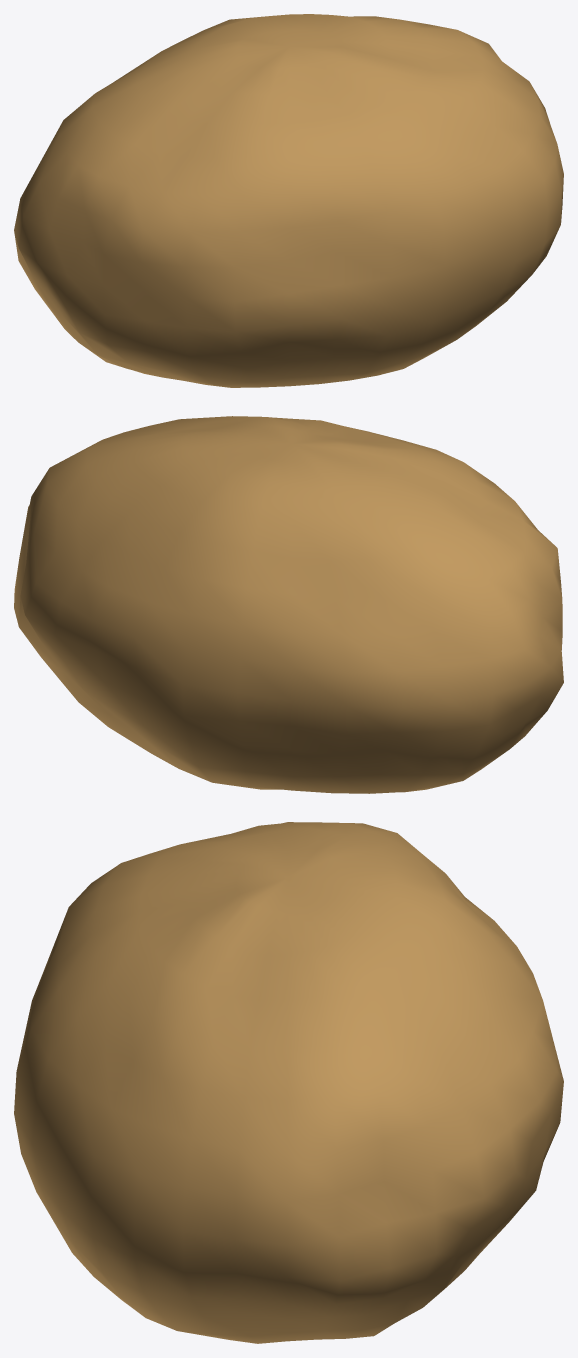
The model's file is Potato.fbx.
3 renders of one model, top to bottom at view 1: azimuth 30°, elevation 25°; view 2: azimuth 150°, elevation 25°; view 3: azimuth 270°, elevation 25°, orthographic. The views are drawn at different scales.
Parts seen in each view (by area): view 1: Sphere; view 2: Sphere; view 3: Sphere.
Part boxes in pixels (left/top/right/bottom): Sphere: left=14, top=14, right=563, bottom=387; Sphere: left=14, top=416, right=563, bottom=793; Sphere: left=14, top=822, right=563, bottom=1343.
Bounding box in the file's own units: 346 × 203 × 248.
